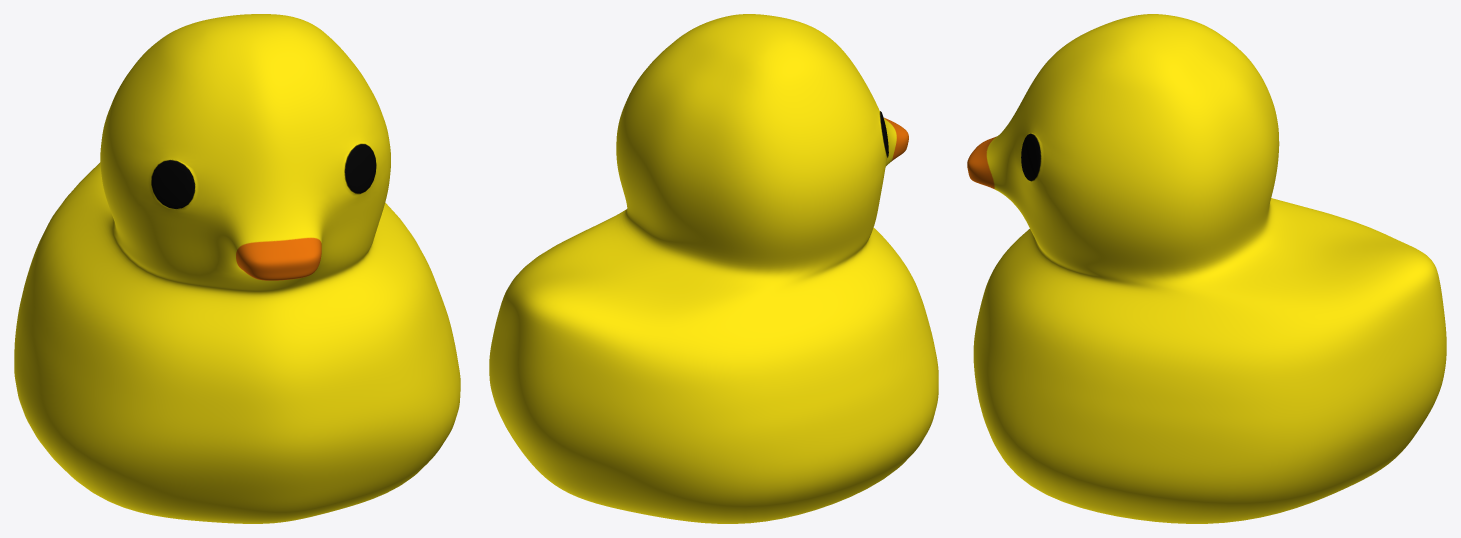
Rendered from rubberDuck.fbx.
3 views of the same model, side by side, from view 1: azimuth 30°, elevation 25°; view 2: azimuth 150°, elevation 25°; view 3: azimuth 270°, elevation 25° (orthographic). The views are drawn at different scales.
Parts seen in each view (by area): view 1: Duck; view 2: Duck; view 3: Duck.
Part boxes in pixels (x1=…): Duck: x1=14, y1=14, x2=460, y2=523; Duck: x1=489, y1=14, x2=938, y2=523; Duck: x1=967, y1=14, x2=1446, y2=523.
Bounding box in the file's own units: 113 × 128 × 126.
1 material, 1 textured.
